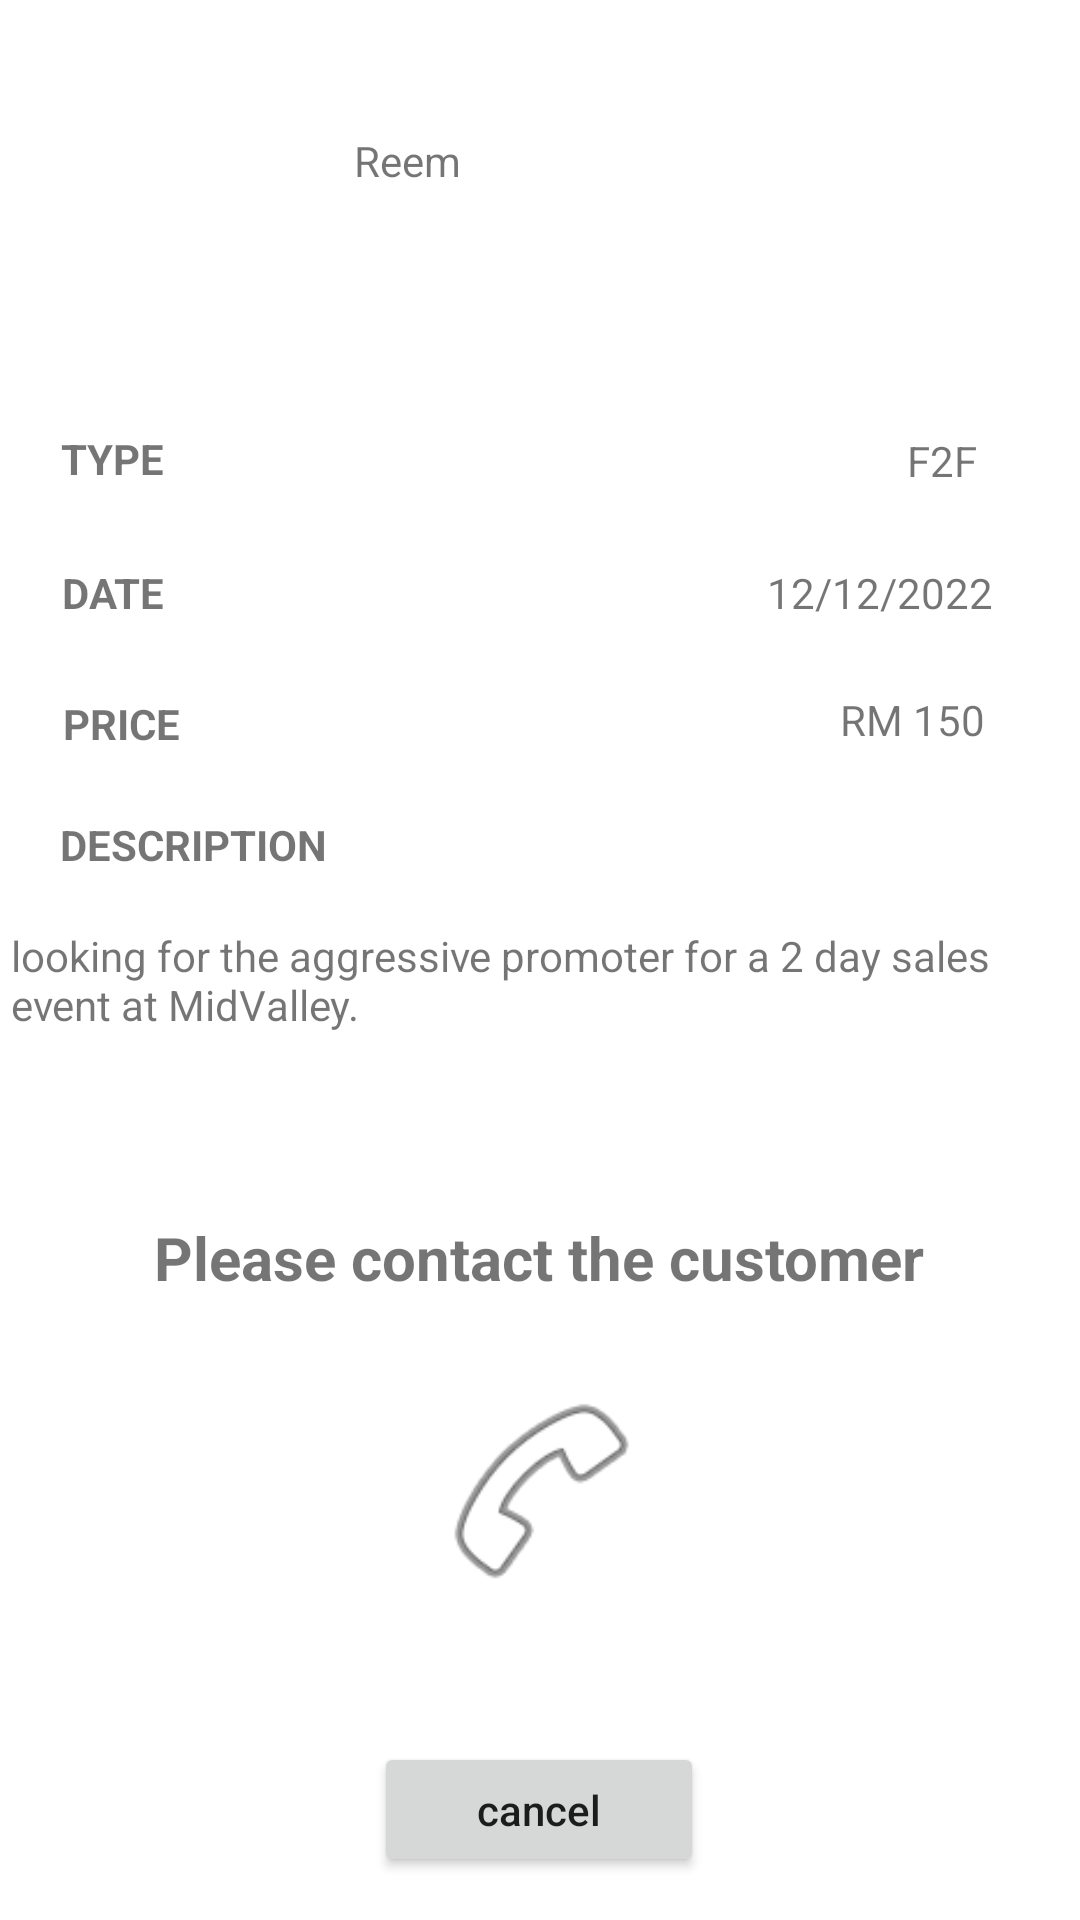

Icons on this 1080*1920 Android screen, each with the point to tap as (x,y):
call: (542,1491)
